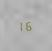one: (19, 20, 25, 31)
six: (26, 19, 32, 30)
